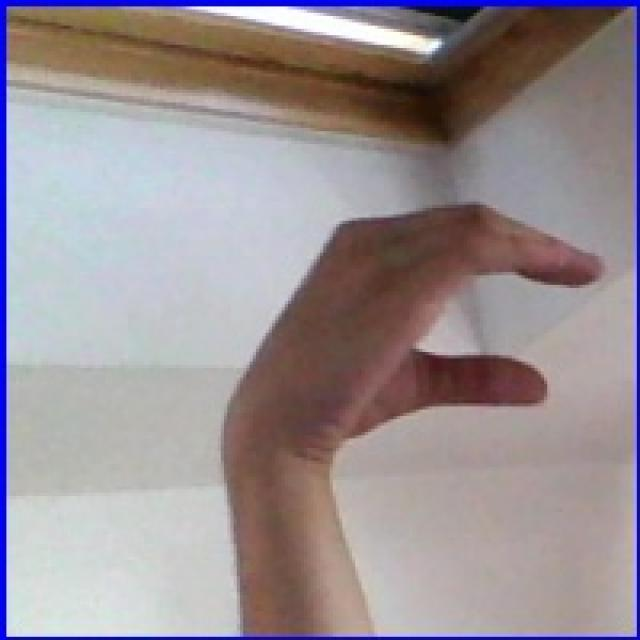Letra C: (180, 160, 612, 496)
